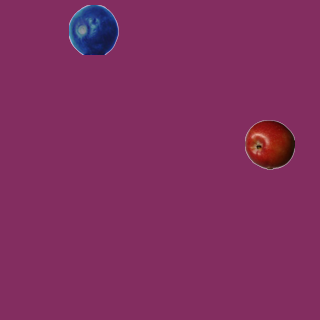Apple Braeburn: (244, 119, 294, 169)
Huckleberry: (68, 4, 118, 54)
